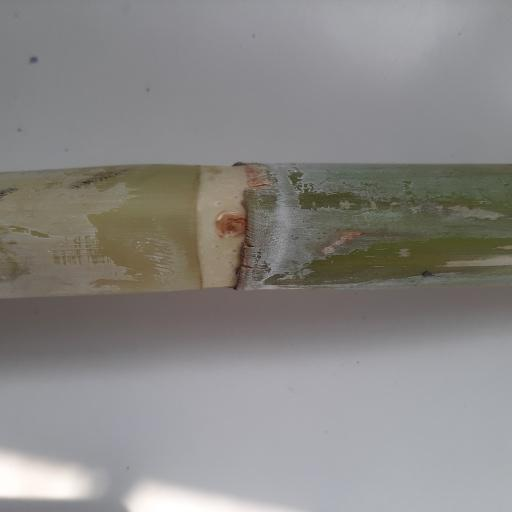Damage_Bud: (215, 212, 246, 241)
